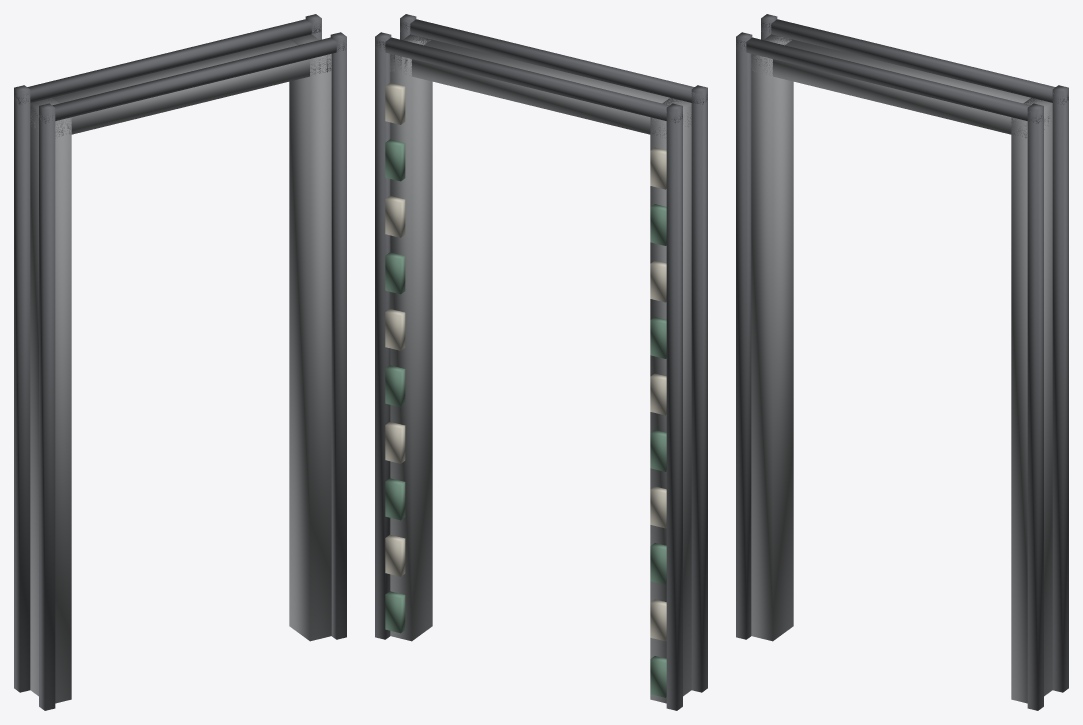
File: doorway_tile_return_w106_h240_d16.glb
3 renders of one model, left to right at view 1: azimuth 30°, elevation 25°; view 2: azimuth 150°, elevation 25°; view 3: azimuth 330°, elevation 25°, orthographic.
Parts seen in each view (by area): view 1: world; view 2: world; view 3: world.
Part boxes in pixels (x1=…): world: x1=14, y1=14, x2=346, y2=710; world: x1=375, y1=14, x2=707, y2=710; world: x1=736, y1=14, x2=1068, y2=710.
Bounding box in the file's own units: 1.34 × 2.55 × 0.2414.
